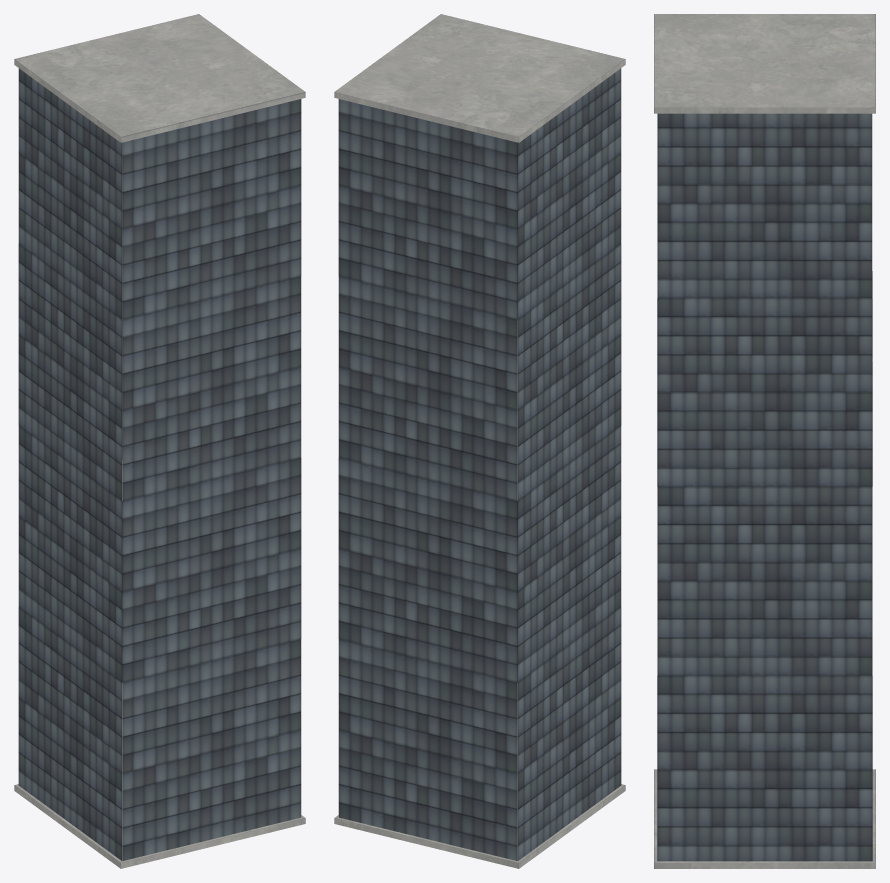
The model's file is building_04.1.glb.
3 renders of one model, left to right at view 1: azimuth 30°, elevation 25°; view 2: azimuth 150°, elevation 25°; view 3: azimuth 270°, elevation 25°, orthographic. The views are drawn at different scales.
Parts seen in each view (by area): view 1: building_04.1; view 2: building_04.1; view 3: building_04.1.
Part boxes in pixels (box(x1,y1,x2,y2)): building_04.1: box(14, 14, 305, 868); building_04.1: box(334, 14, 625, 868); building_04.1: box(654, 14, 875, 868).
Bounding box in the file's own units: 33 × 125 × 33.
1 material, 1 textured.
